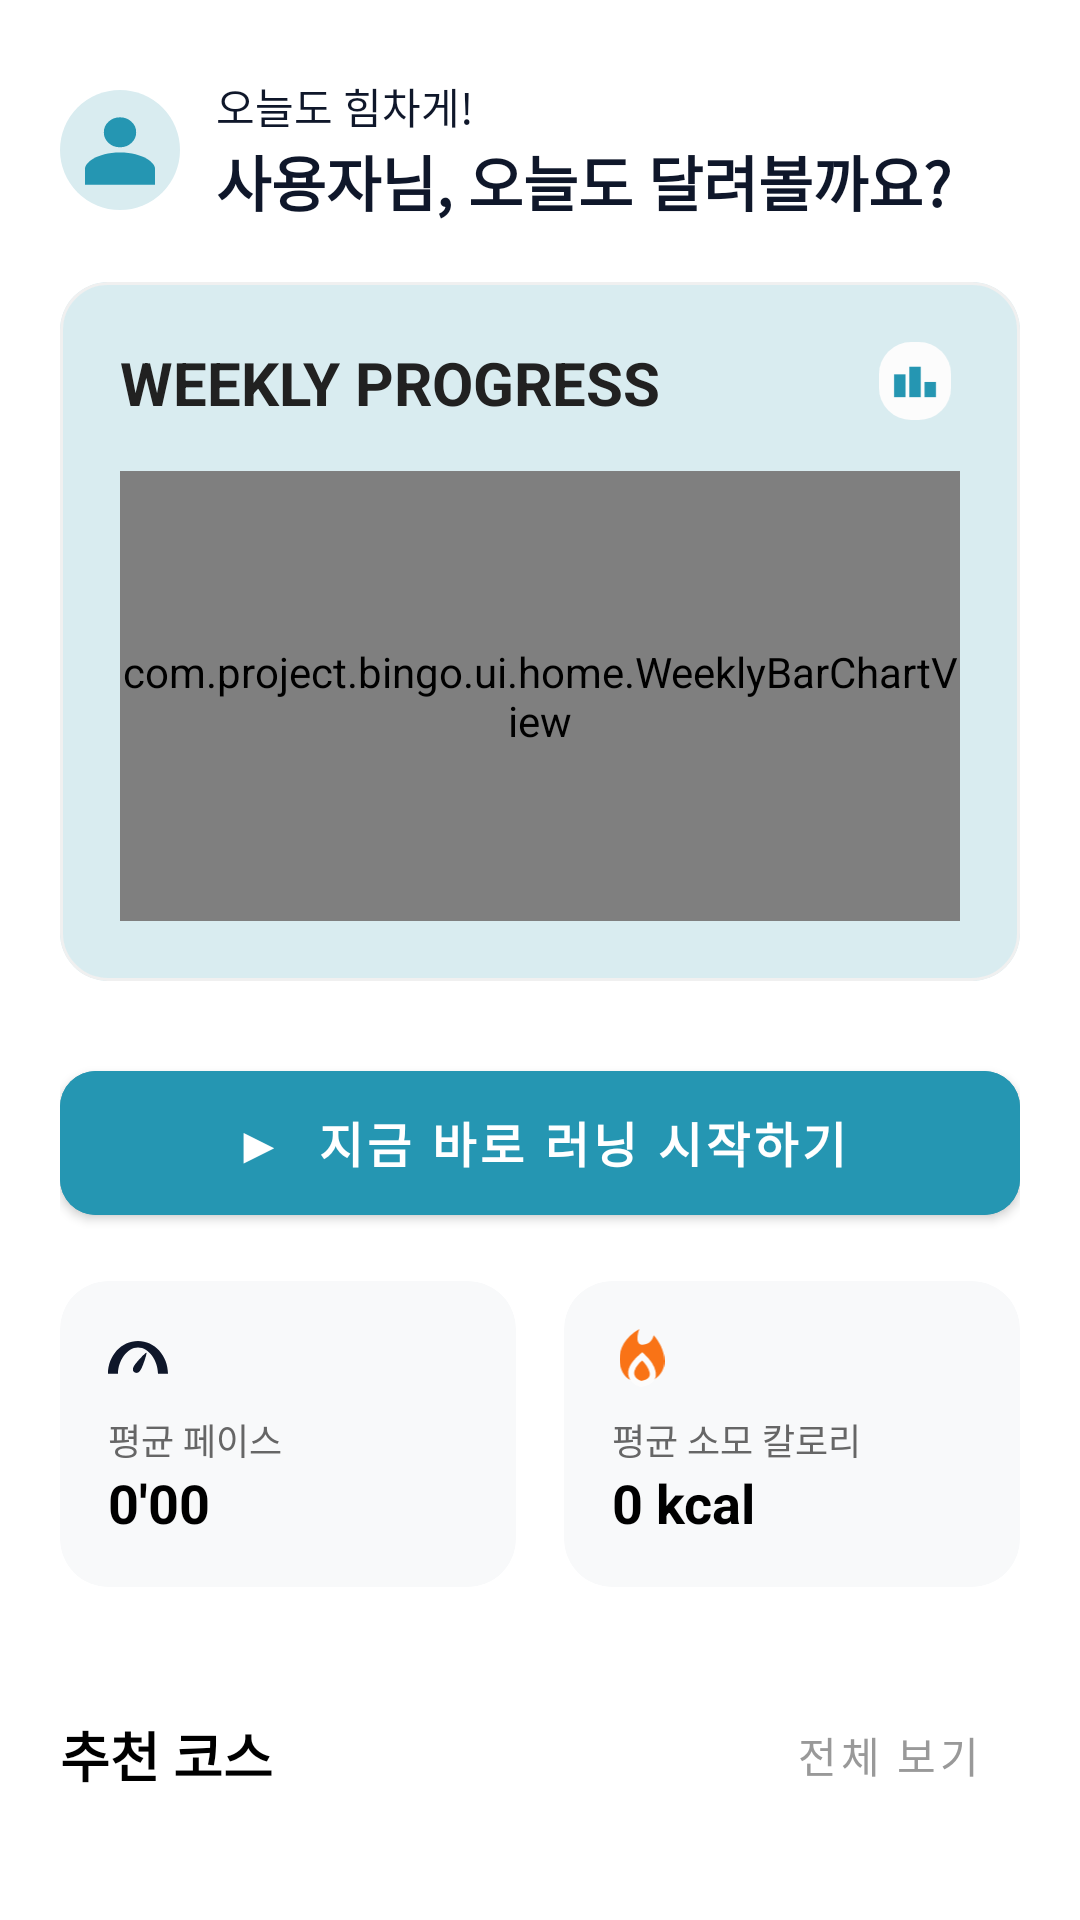

Icon click points for this 1080 x 1920 phone screenshot, format (x=x, y=y):
fire: (x=642, y=1355)
user: (x=120, y=150)
